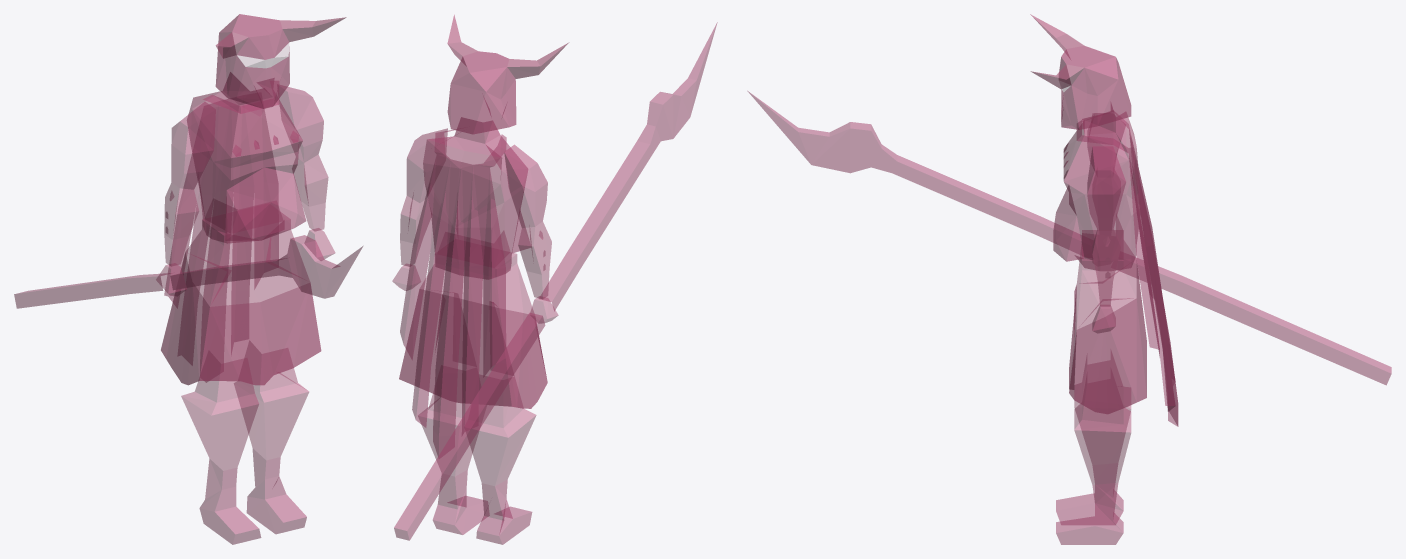
The model's file is guthan.glb.
3 views of the same model, side by side, from view 1: azimuth 30°, elevation 25°; view 2: azimuth 150°, elevation 25°; view 3: azimuth 270°, elevation 25° (orthographic). The views are drawn at different scales.
Bounding box in the file's own units: 70 × 206 × 248.
1 material, 1 textured.
